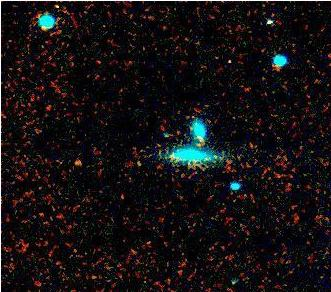star: (61, 147, 91, 177)
